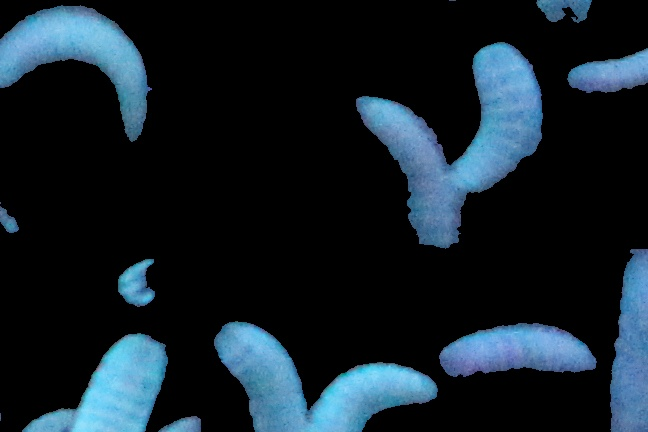larvae: (1, 1, 147, 145), (360, 96, 466, 276), (457, 45, 539, 207), (207, 321, 311, 432), (310, 352, 438, 431), (74, 330, 172, 432), (439, 320, 597, 380)
